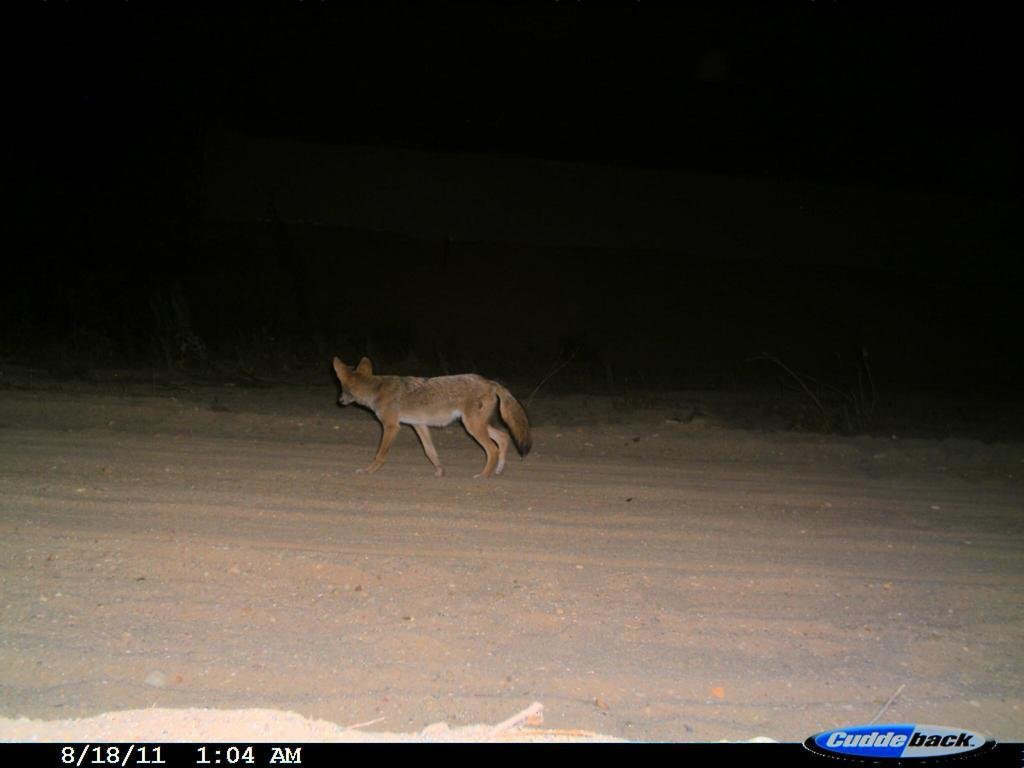coyote: (323, 344, 538, 500)
